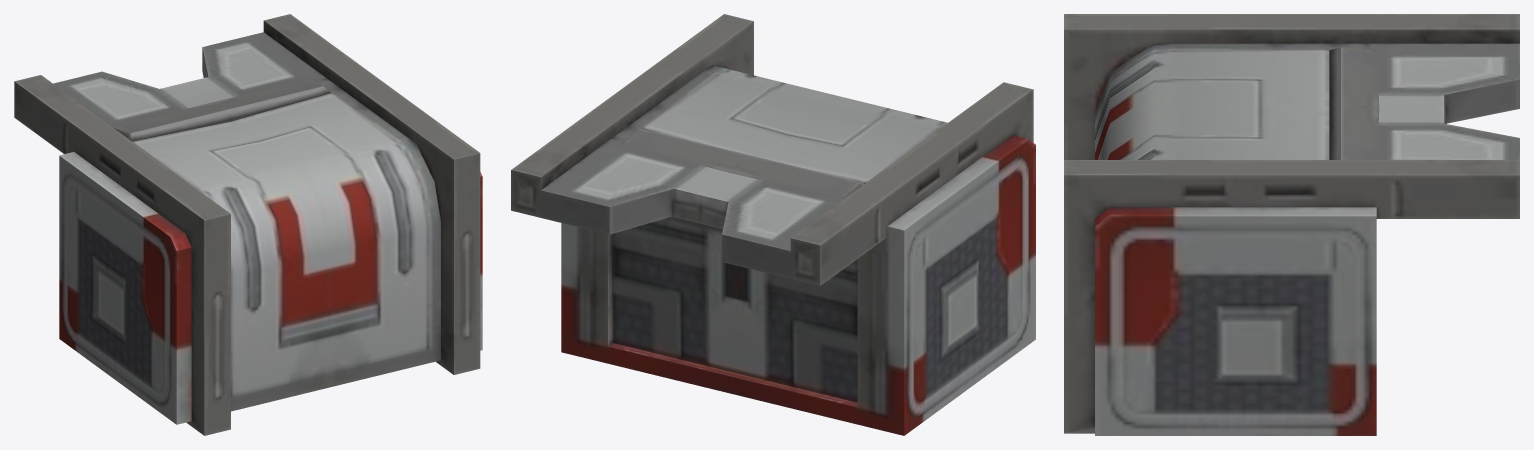
File: Part - Main form 04-Cw15oAX8.glb
3 renders of one model, left to right at view 1: azimuth 30°, elevation 25°; view 2: azimuth 150°, elevation 25°; view 3: azimuth 270°, elevation 25°, orthographic. The views are drawn at different scales.
Parts seen in each view (by area): view 1: Main_form_04; view 2: Main_form_04; view 3: Main_form_04.
Part boxes in pixels (<box>): Main_form_04: <box>14,14,482,435</box>; Main_form_04: <box>511,14,1035,435</box>; Main_form_04: <box>1064,14,1519,435</box>.
Bounding box in the file's own units: 2.28 × 1.55 × 2.45.
Materials: 1 (1 with a texture image).
